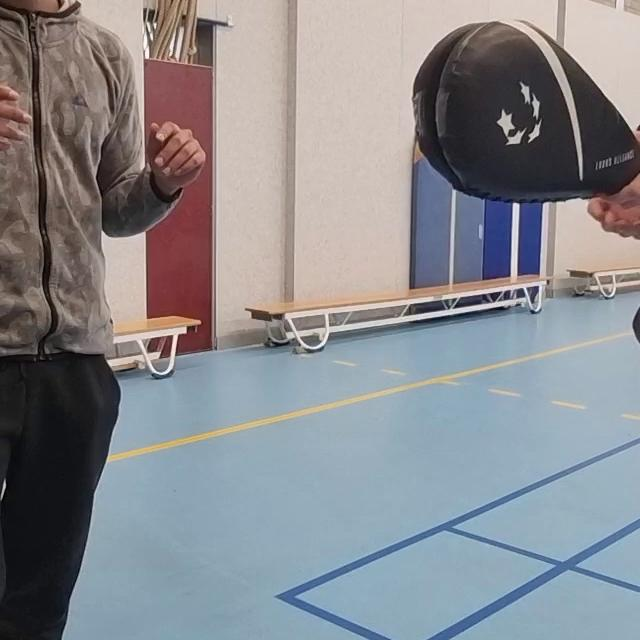paddle: (401, 7, 640, 212)
